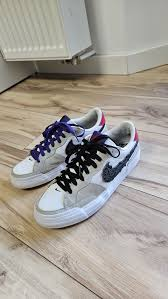nike_pogo_plus_japanese_roots: (32, 120, 141, 230)
